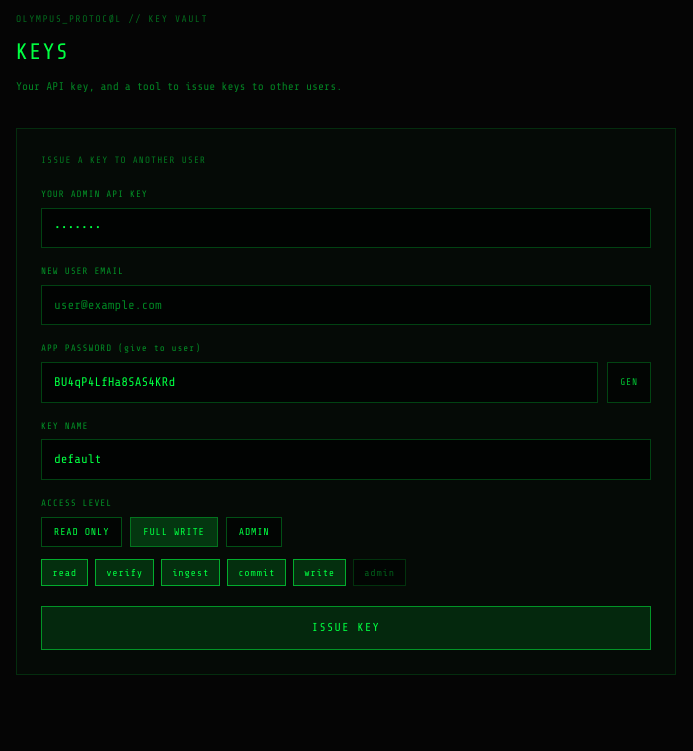
Test: <AdminPage> › validates that email is required
The image size is (693, 751).
Click the button "ISSUE KEY": click(346, 628) [41,606,651,650]
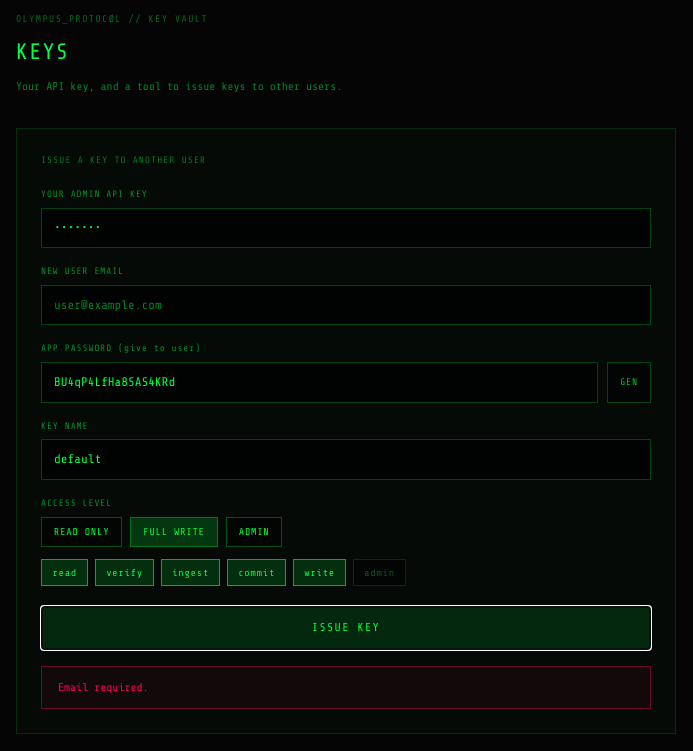
Now the text "Email required." is shown, box [41,666,651,709]
